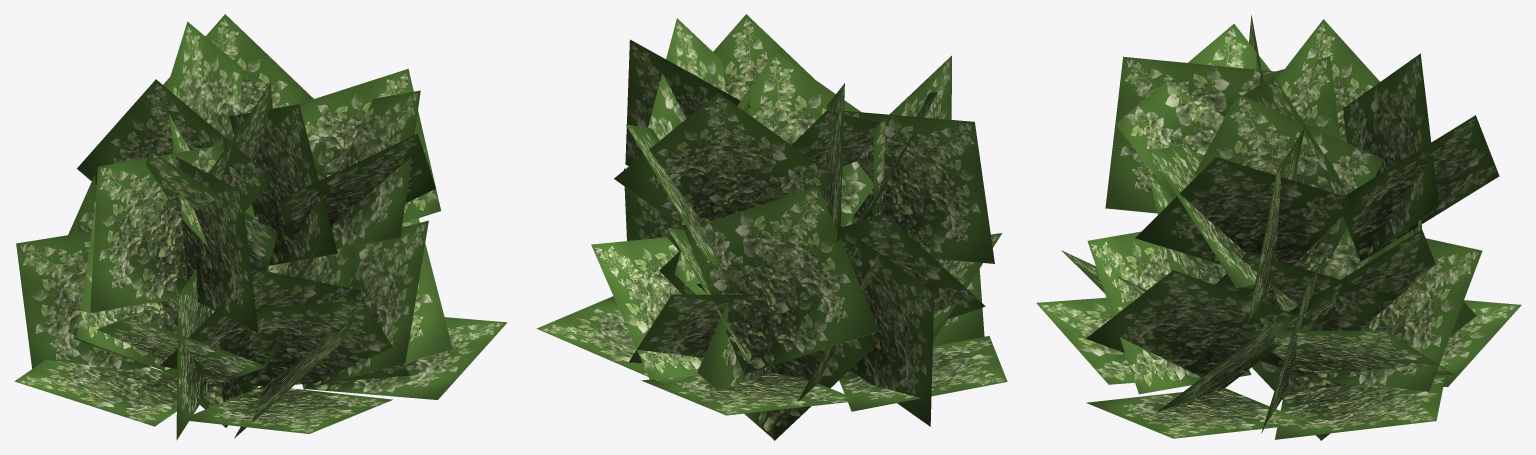
File: bush09_lod02.FBX
3 views of the same model, side by side, from view 1: azimuth 30°, elevation 25°; view 2: azimuth 150°, elevation 25°; view 3: azimuth 270°, elevation 25° (orthographic). The views are drawn at different scales.
Visible parts, largest first — view 1: bush09_lod02; view 2: bush09_lod02; view 3: bush09_lod02.
Boxes of the visible parts, bbox=[...] form: bush09_lod02: bbox=[14, 14, 507, 440]; bush09_lod02: bbox=[536, 14, 1007, 440]; bush09_lod02: bbox=[1036, 14, 1521, 440].
Size of the model in its own units: 281 by 231 by 260.
Materials: 1 (1 with a texture image).
